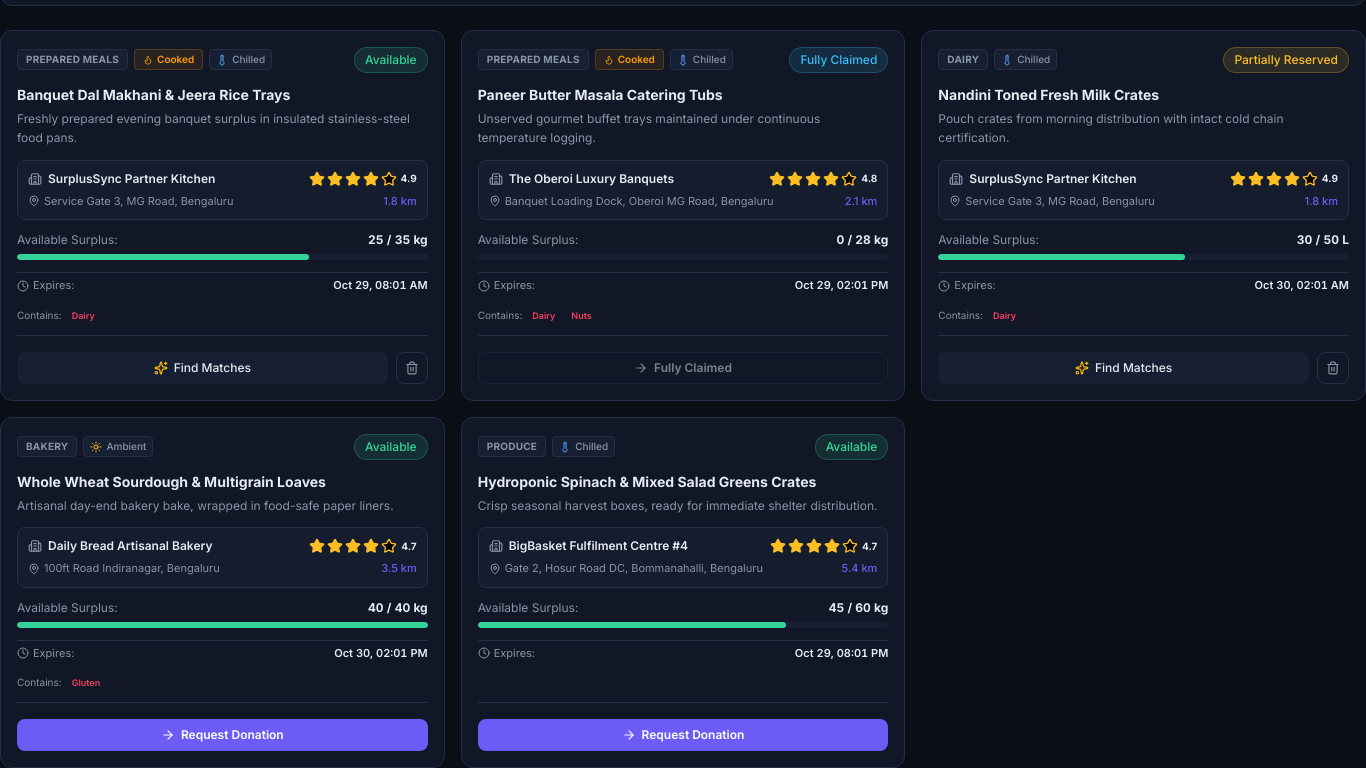
Test: Redistribution Frontend Pages Suite › SurplusMarketplacePage › opens Request Donation modal when Request Donation is clicked
(page scrolled)
Expected: the heading "Whole Wheat Sourdough & Multigrain Loaves" is shown, [17,473,326,490]
Click the button "Request Donation" below "Gluten".
click(222, 735)  # box [17,719,428,751]
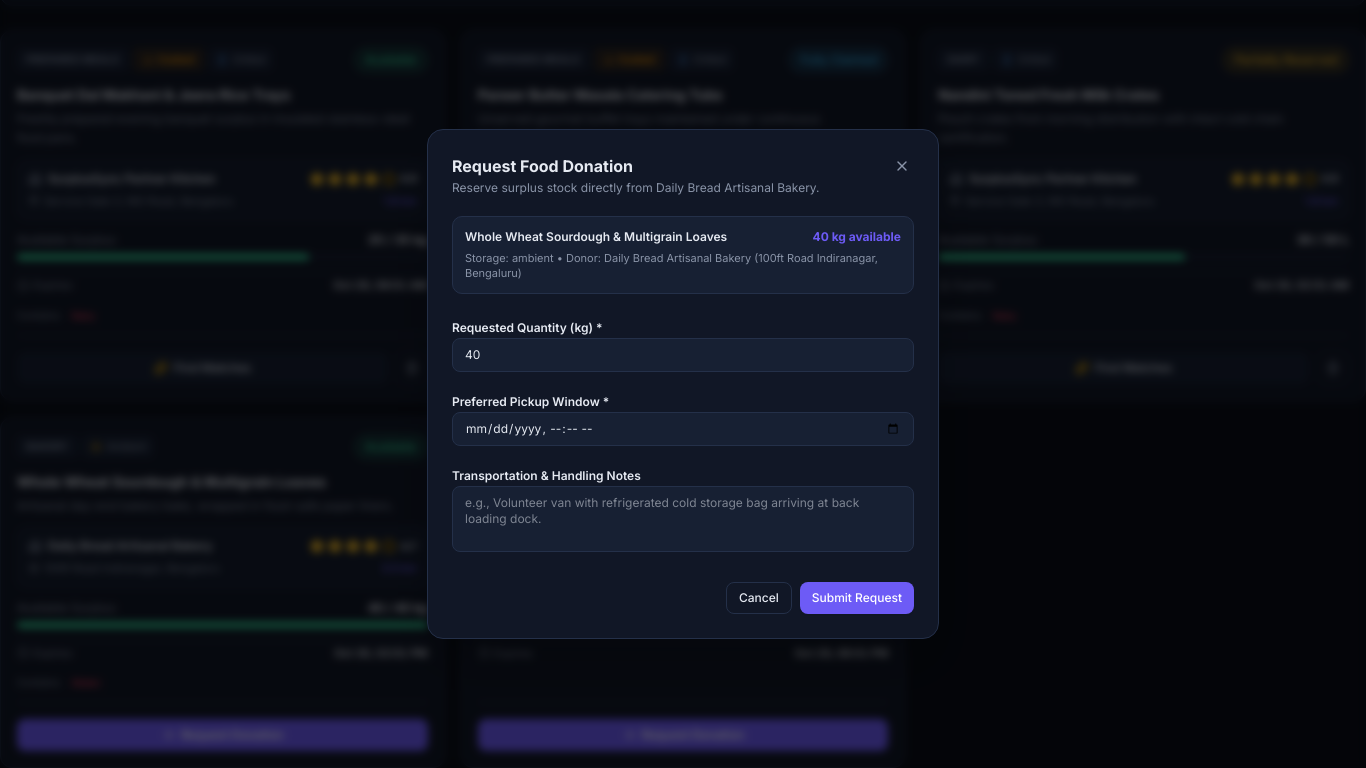
Result: the heading "Request Food Donation" is shown at [452,156,633,176]
Result: the text "Preferred Pickup Window *" is shown at [452,394,609,409]
